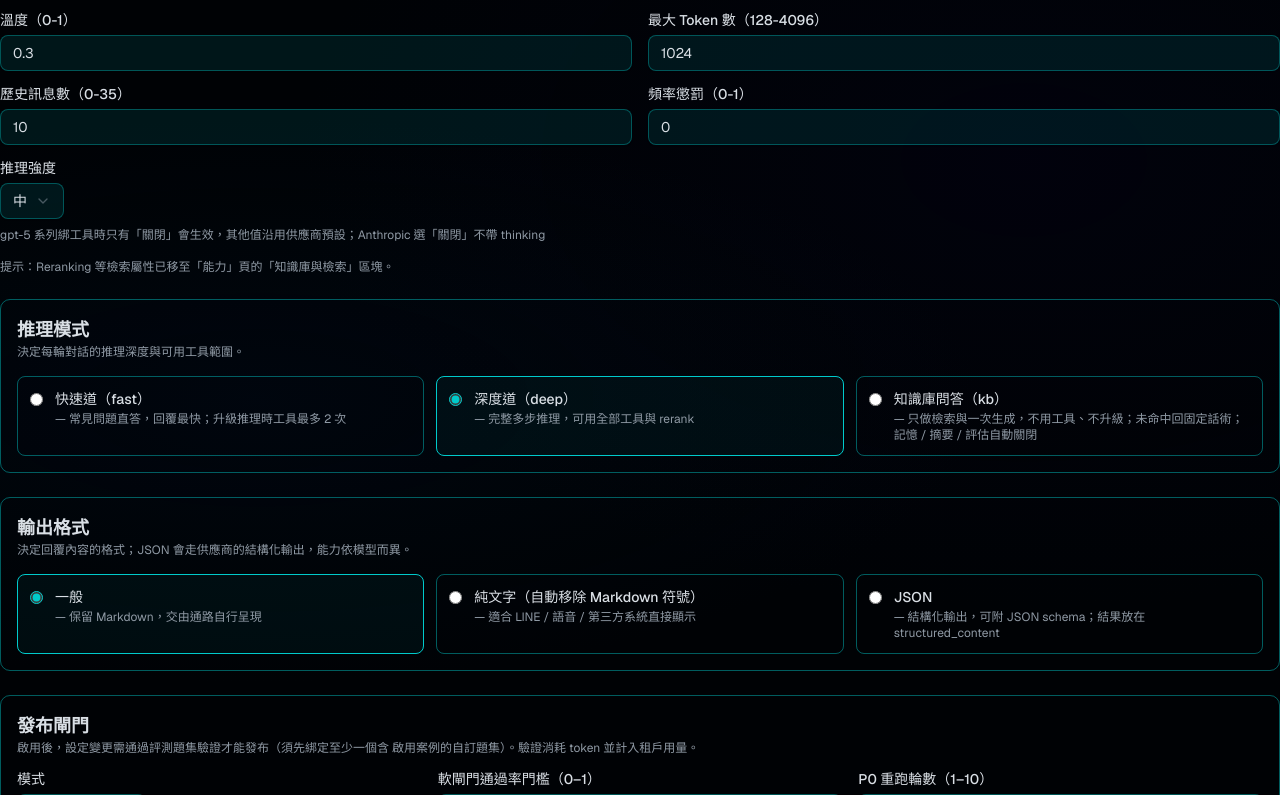
Test: BotDetailForm › mode (Issue #66) › 選取 fast 後顯示預設填值說明（Issue #92）
Click the radio button labelled "快速道（fast） — 常見問題直答，回覆最快；升級推理時工具最多 2 次": (36, 400) [30,393,43,406]
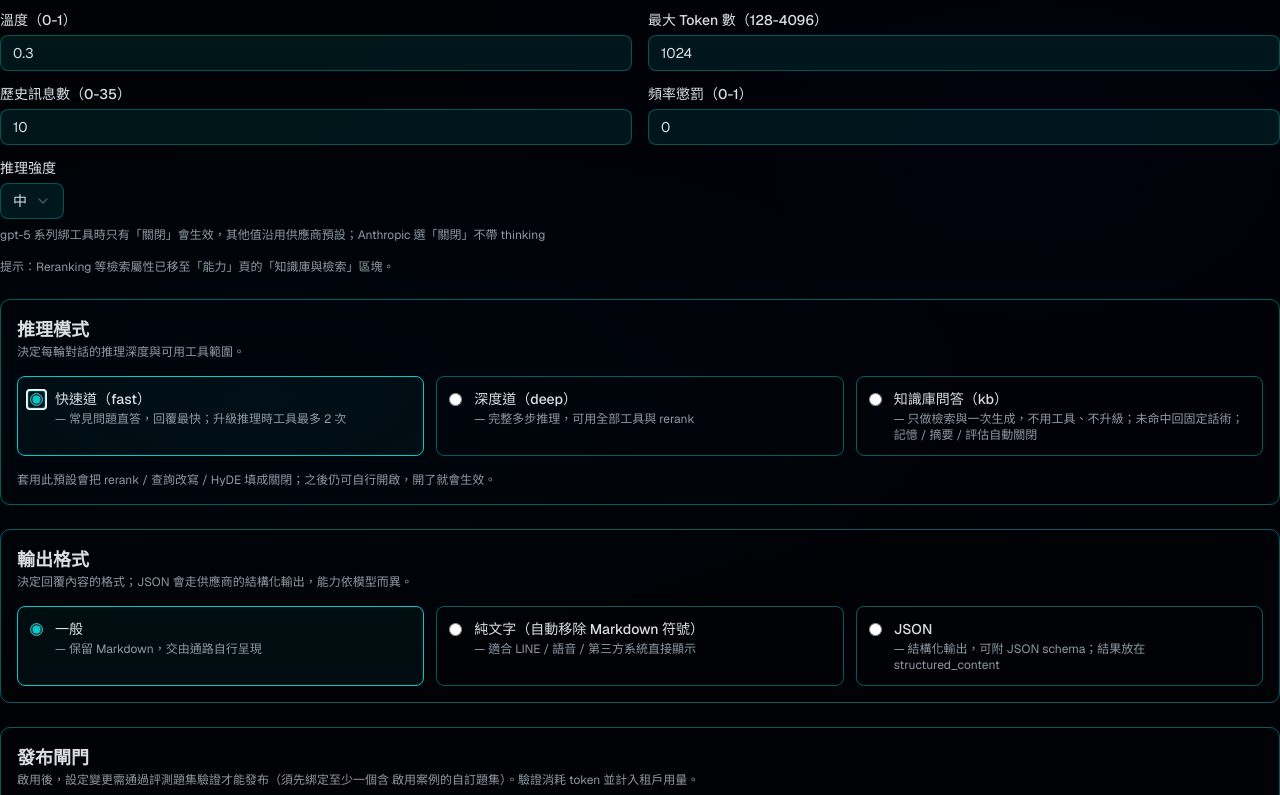
Check: the text "套用此預設會把 rerank / 查詢改寫 / HyDE 填成關閉；之後仍可自行開啟，開了就會生效。" is shown, box [17,472,496,488]
